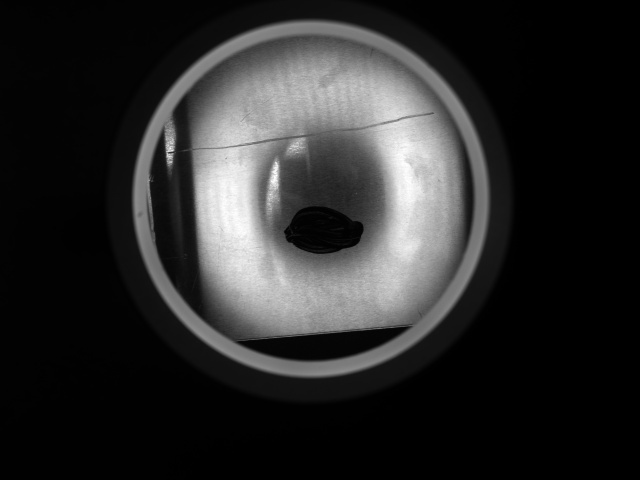ca_shang: (162, 109, 434, 157)
zang_wu: (280, 202, 361, 257)
